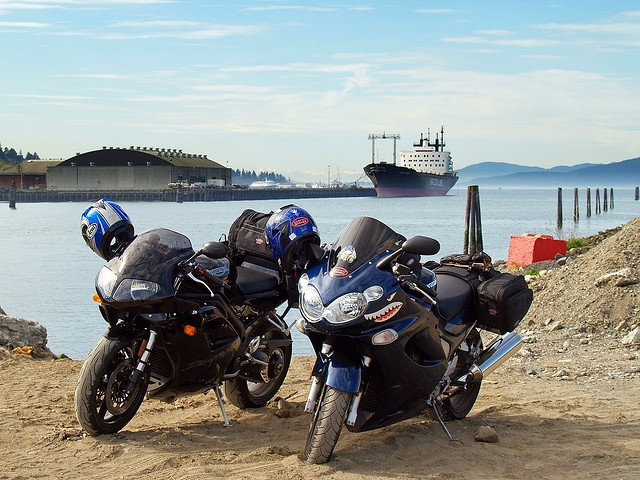non-vehicle: (298, 215, 525, 465), (64, 200, 295, 435)
